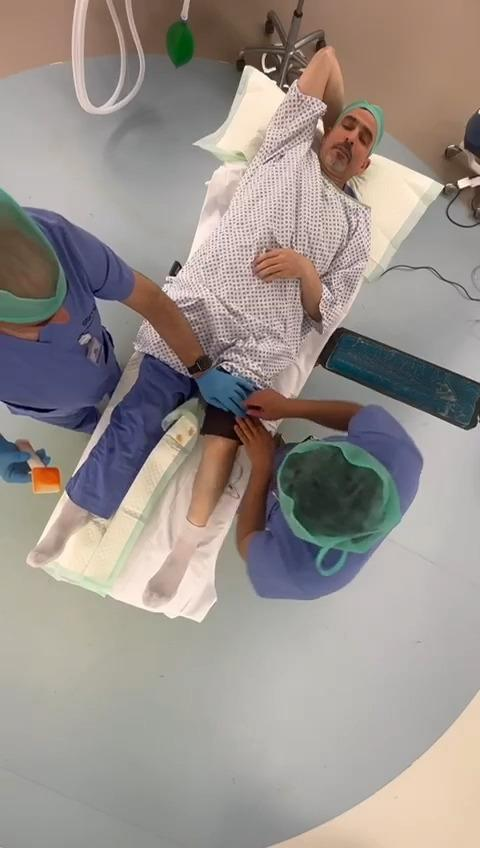patient: (28, 48, 383, 605)
prepstick: (15, 439, 60, 492)
tourniquet: (200, 404, 238, 440)
